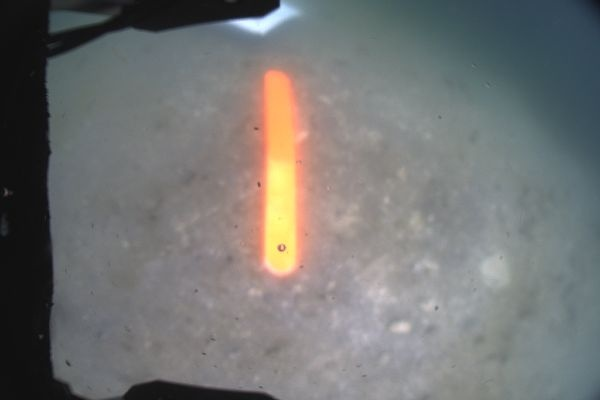bin: (229, 0, 299, 34)
path: (263, 69, 299, 277)
